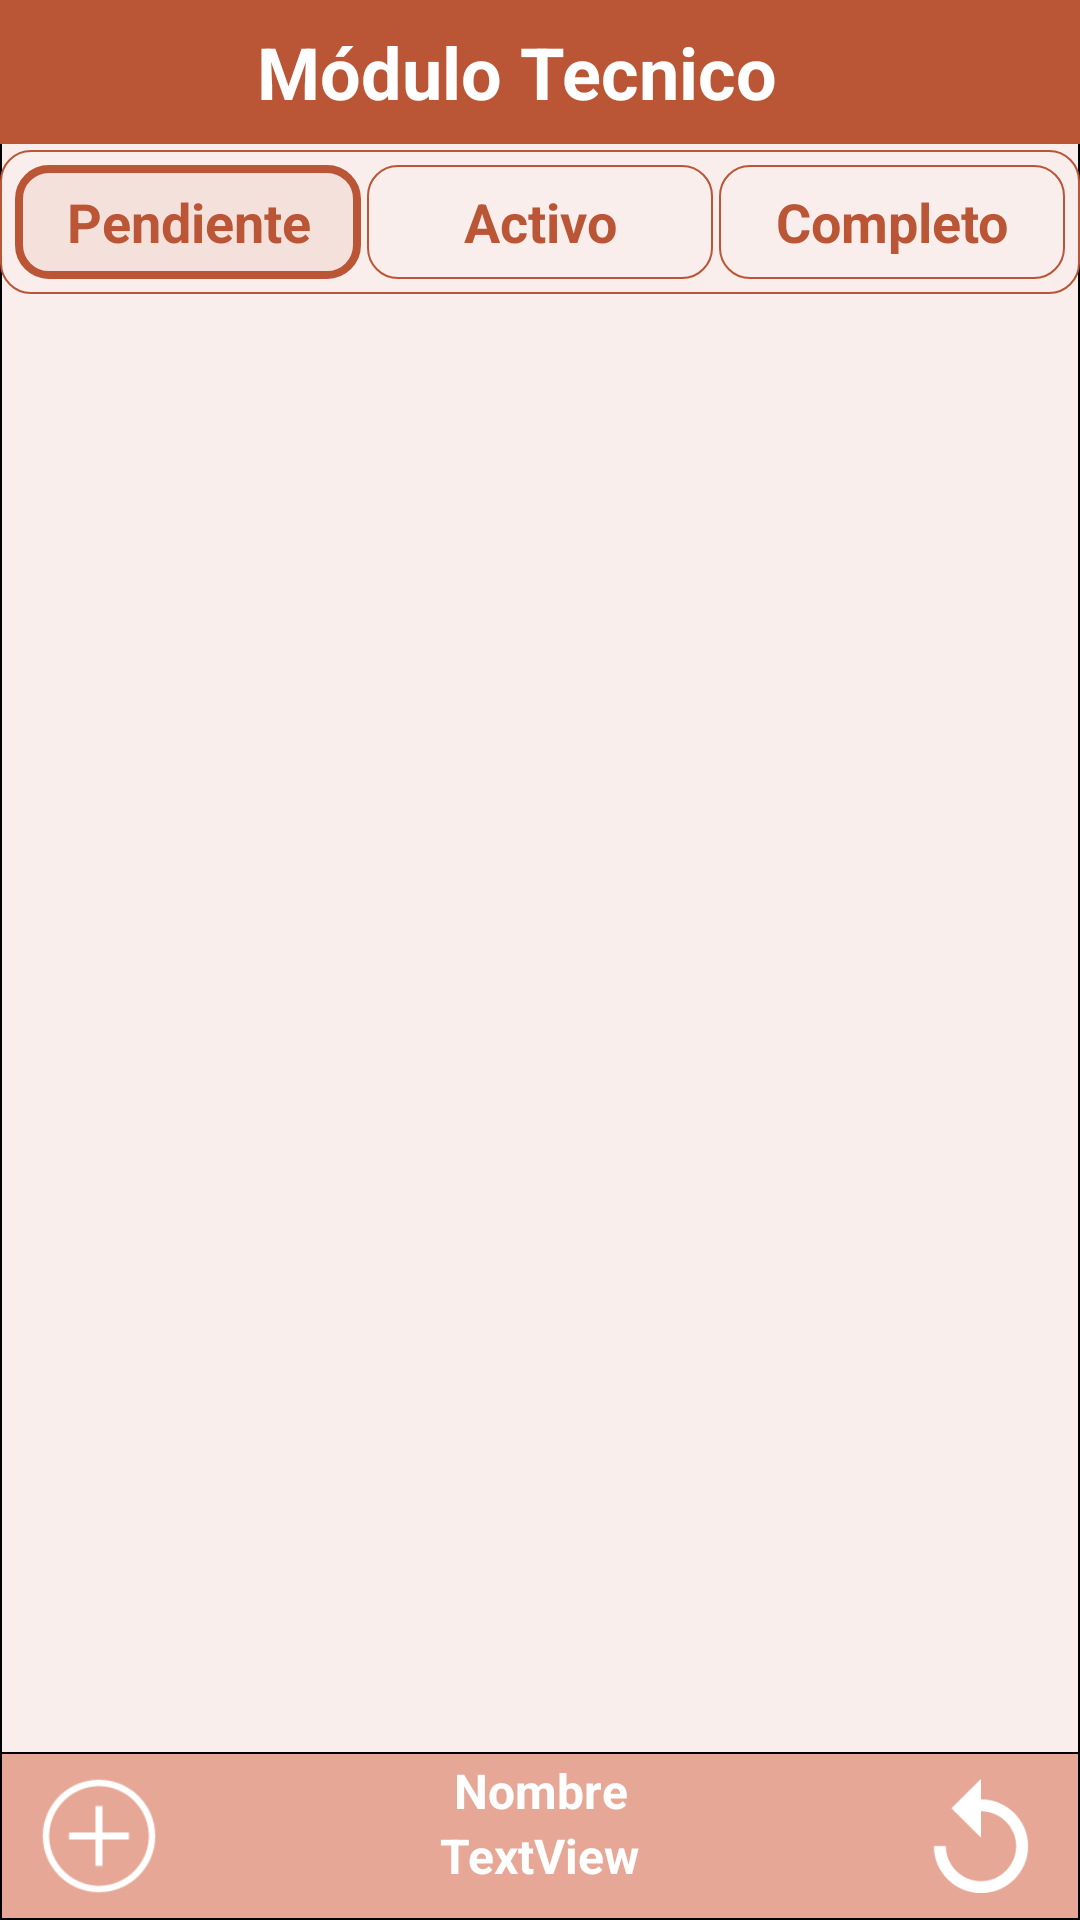

Locate icon controls on the screen. Image size 1080*1920, boxes as region(x1, y1, x2, y2).
add circle: region(42, 1779, 156, 1893)
undo: region(934, 1779, 1028, 1893)
